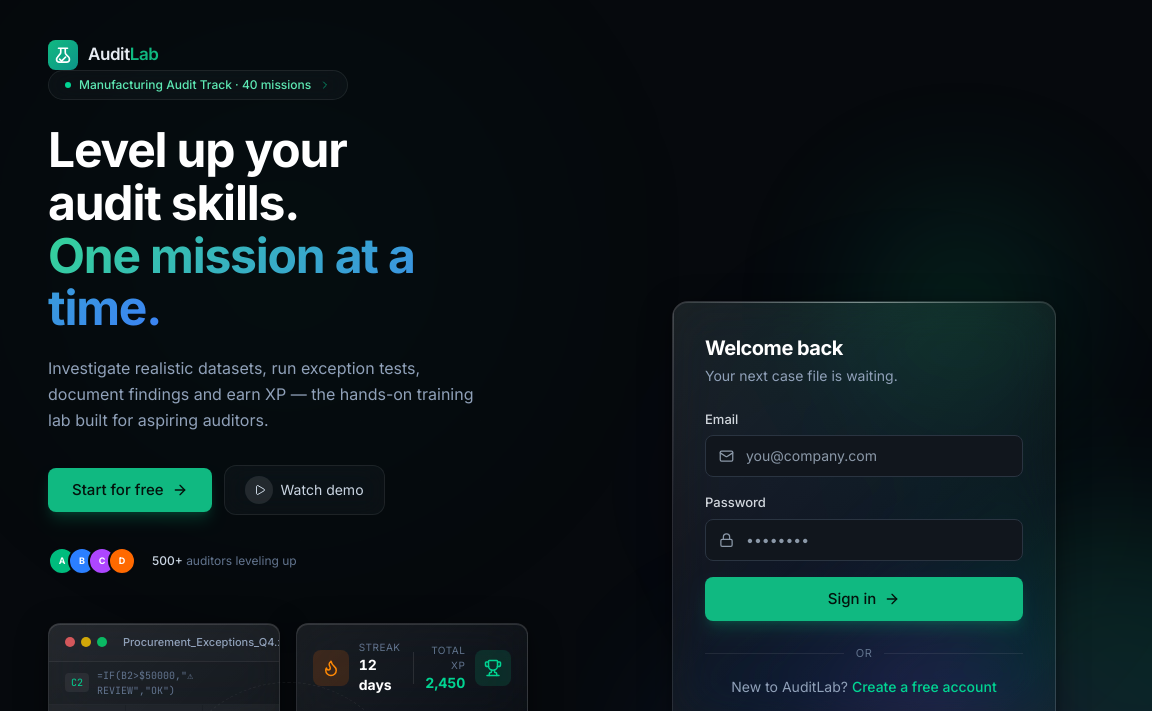
Test case: onboarding gate through the real app › never shows it to a returning learner with completed work
Step 1. Type "returning2@example.com" into the field labelled "Email" → {"x": 864, "y": 456}, box [705,435,1023,477]
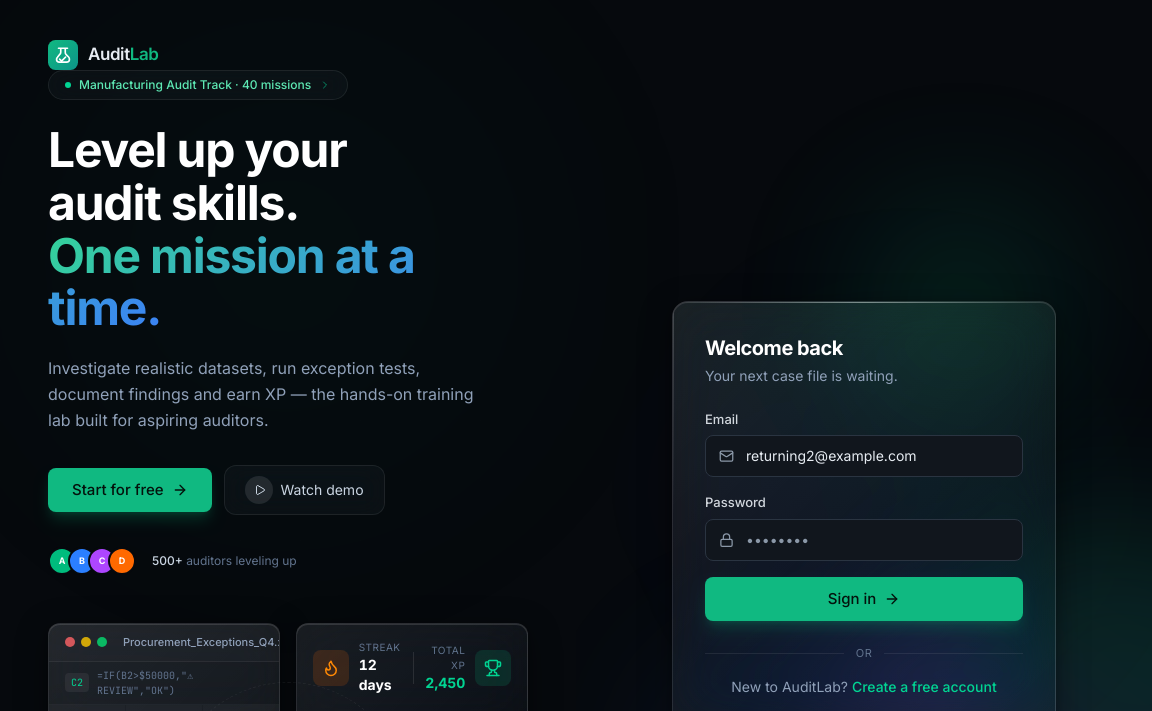
Step 2. Type "pw123456" into the password field labelled "Password" → {"x": 864, "y": 540}, box [705,519,1023,561]
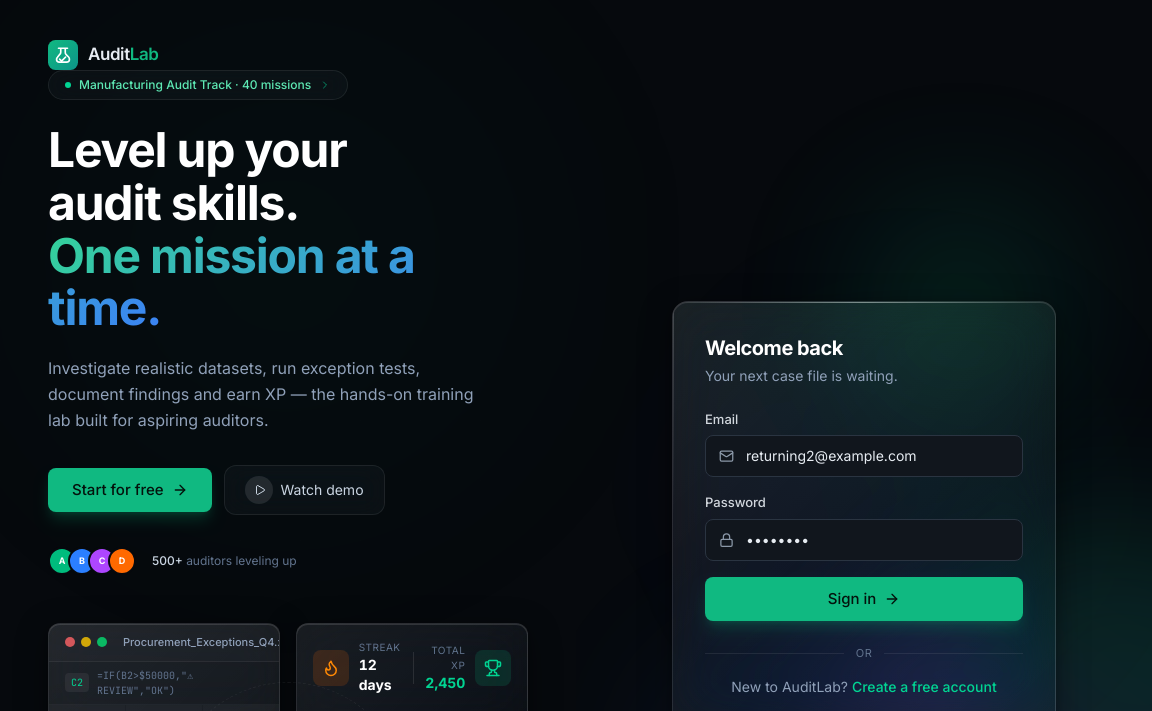
Step 3. Click the button "Sign in" → {"x": 864, "y": 599}, box [705,577,1023,621]
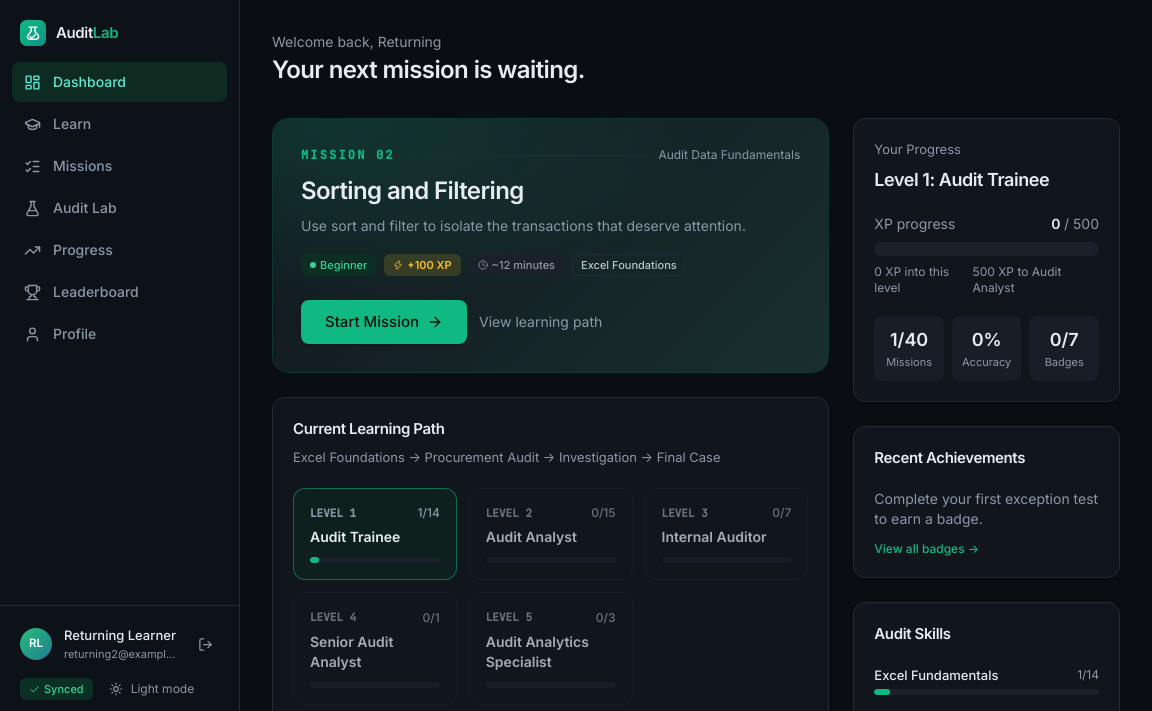
Check: the heading "Your next mission is waiting." is shown, box [272,55,585,84]
